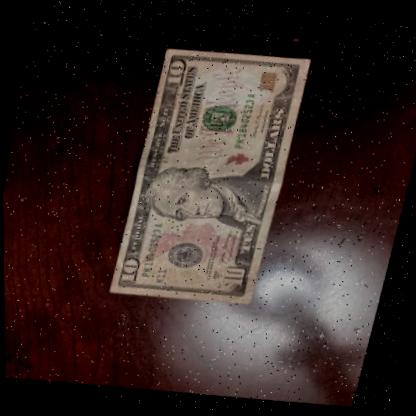ten-front: (104, 35, 316, 326)
